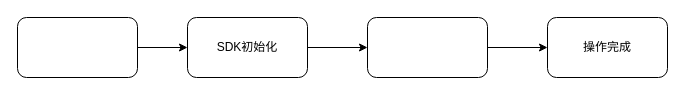
Some shapes in this 685 by 95 pixel diagram are drawn without their labels. The shapes that lost their labels are listed below. From the top down, each one's centre as x and y in pixels, then its label:
[77,47]: 点击推广Banner
[427,47]: 加载业务页面
